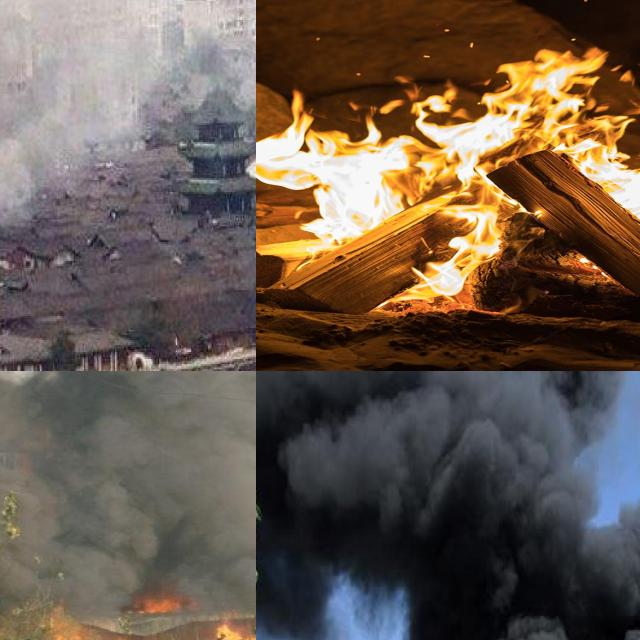fire: (256, 41, 640, 304), (0, 599, 256, 640), (136, 593, 181, 612)
smoke: (256, 371, 640, 640), (0, 371, 256, 625), (0, 0, 180, 211)
